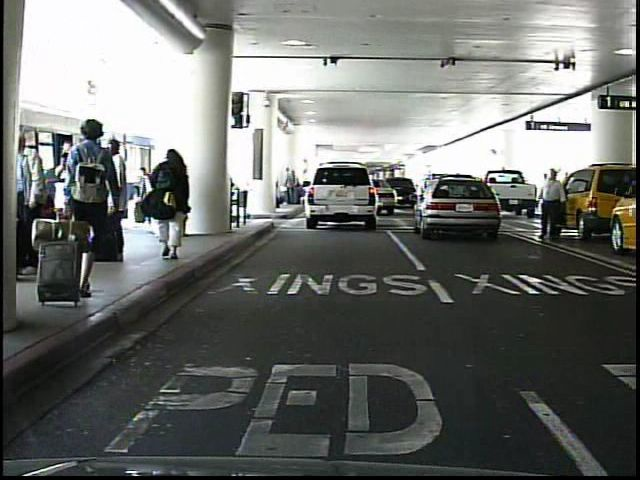person: (66, 112, 121, 309), (147, 143, 193, 269), (96, 137, 134, 269), (18, 126, 51, 275), (538, 167, 566, 245), (165, 157, 190, 236)
